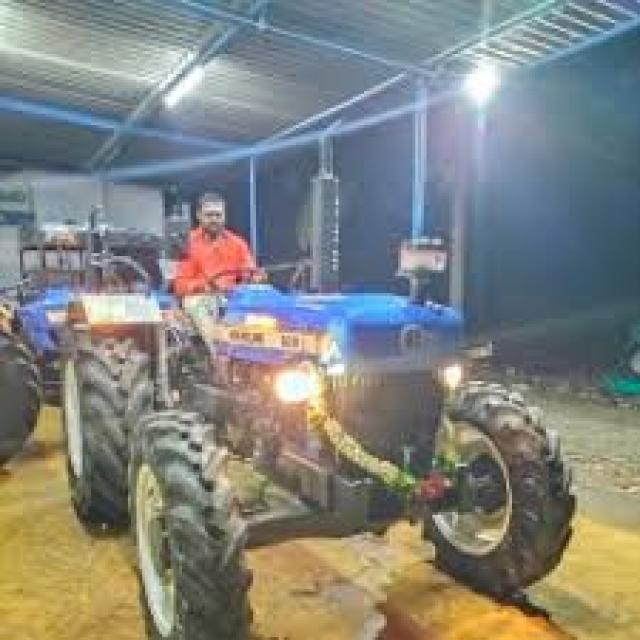person: (174, 193, 253, 296)
tractor: (63, 193, 572, 640), (17, 228, 156, 398)
